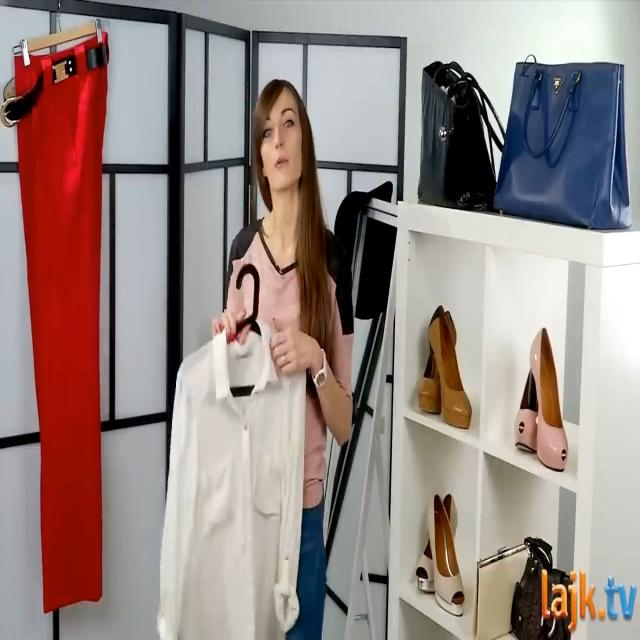shirt: (157, 313, 307, 640)
